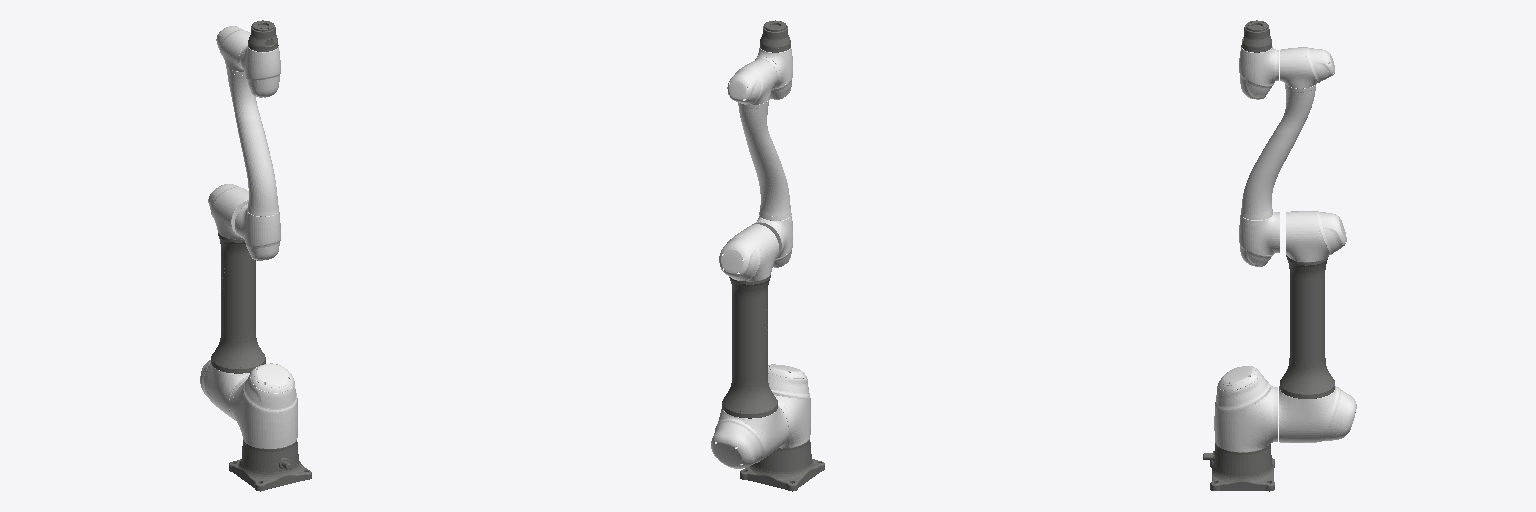
robot.urdf — m0609:
<?xml version="1.0" ?>
<robot name="m0609">

  <material name="black">
    <color rgba="0.0 0.0 0.0 1.0"/>
  </material>
  <material name="white">
    <color rgba="1.0 1.0 1.0 1.0"/>
  </material>
  <material name="orange">
    <color rgba="1.0 0.4 0.0 1.0"/>
  </material>

  <material name="dr_gray">
    <color rgba="0.490 0.490 0.486 1.0"/>
  </material>
  <material name="dr_white">
    <color rgba="0.941 0.941 0.941 1.0"/>
  </material>
  
  <link name="base"/>
  <joint name="fixed" type="fixed">
    <parent link="base"/>
    <child link="base_0"/>
  </joint>
  
  <link name="base_0">
	<inertial>
	  <mass value="3.722"/>
	  <origin xyz="-1.2e-05 -6e-05 0.050723"/>
      <inertia ixx="0.011" ixy="-7.19e-06" ixz="-1.94e-06" iyy="0.011" iyz="4.9e-06" izz="0.014"/>
    </inertial>
	<visual>
      <origin rpy="0 0 0" xyz="0 0 0"/>
      <geometry>
        <mesh filename="package://dsr_description2/meshes/a0912_white/A0912_0_0.dae" scale="0.001 0.001 0.001"/>
      </geometry>
      <material name="dr_gray"/>
    </visual>
  </link>

  <joint name="joint1" type="revolute">
    <parent link="base_0"/>
    <child link="link1"/>
    <origin rpy="0 0 0" xyz="0 0 0.195"/>
    <axis xyz="0 0 1"/>
    <limit effort="30" lower="-2.617" upper="2.617" velocity="1.571"/>
  </joint>

  <link name="link1">
	<inertial>
	  <mass value="7.446"/>
	  <origin xyz="7e-05 0.044281 0.143327"/>
      <inertia ixx="0.039" ixy="2.1e-05" ixz="-3.61e-05" iyy="0.023" iyz="-0.003" izz="0.039"/>
    </inertial>
    <visual>
      <origin rpy="0 0 0" xyz="0 0 0"/>
      <geometry>
        <mesh filename="package://dsr_description2/meshes/a0912_white/A0912_1_0.dae" scale="0.001 0.001 0.001"/>
      </geometry>
      <material name="dr_white"/>
    </visual>
    <visual>
      <origin rpy="0 0 0" xyz="0 0 0"/>
      <geometry>
        <mesh filename="package://dsr_description2/meshes/a0912_white/A0912_1_1.dae" scale="0.001 0.001 0.001"/>
      </geometry>
      <material name="dr_white"/>
    </visual>
    <visual>
      <origin rpy="0 0 0" xyz="0 0 0"/>
      <geometry>
        <mesh filename="package://dsr_description2/meshes/a0912_white/A0912_1_2.dae" scale="0.001 0.001 0.001"/>
      </geometry>
      <material name="dr_white"/>
    </visual>
  </link>
  
  <joint name="joint2" type="revolute">
    <parent link="link1"/>
    <child link="link2"/>
    <origin rpy="0 -1.571 -1.571" xyz="0 0.039 0"/>
    <axis xyz="0 0 1"/>
    <limit effort="30" lower="-2.617" upper="2.617" velocity="1.571"/>
  </joint>

  <link name="link2">
	<inertial>
	  <mass value="10.569"/>
	  <origin xyz="-1.6e-05 0.189372 0.418558"/>
      <inertia ixx="0.820" ixy="1.19e-05" ixz="-0.000263" iyy="0.82" iyz="-0.008" izz="0.031"/>
    </inertial>
    <visual>
      <origin rpy="0 0 0" xyz="0 0 0"/>
      <geometry>
        <mesh filename="package://dsr_description2/meshes/a0912_white/A0912_2_0.dae" scale="0.001 0.001 0.001"/>
      </geometry>
      <material name="dr_white"/>
    </visual>
    <visual>
      <origin rpy="0 0 0" xyz="0 0 0"/>
      <geometry>     
		<mesh filename="package://dsr_description2/meshes/a0912_white/A0912_2_1.dae" scale="0.001 0.001 0.001"/>
      </geometry>
      <material name="dr_gray">
        <color rgba="0.490 0.490 0.486 1.0"/>
      </material>
	  </visual>
    <visual>
      <origin rpy="0 0 0" xyz="0 0 0"/>
      <geometry>     
		<mesh filename="package://dsr_description2/meshes/a0912_white/A0912_2_2.dae" scale="0.001 0.001 0.001"/>
      </geometry>
      <material name="dr_white"/>
    </visual>	
  </link>

  <joint name="joint3" type="revolute">
    <parent link="link2"/>
    <child link="link3"/>
    <origin rpy="0 0 1.571" xyz="0.56 0 0"/>
    <axis xyz="0 0 1"/>
    <limit effort="30" lower="-2.617" upper="2.617" velocity="1.571"/>
  </joint>
  
  <link name="link3">
	<inertial>
	  <mass value="3.614"/>
	  <origin xyz="6e-06 0.07917 0.781807"/>
      <inertia ixx="0.012" ixy="-4.38e-06" ixz="-1.2e-06" iyy="0.008" iyz="0.002" izz="0.011"/>
    </inertial>
    <visual>
      <origin rpy="0 0 0" xyz="0 0 0"/>
      <geometry>     
		<mesh filename="package://dsr_description2/meshes/a0912_white/A0912_3_0.dae" scale="0.001 0.001 0.001"/>
      </geometry>
      <geometry>     
		<mesh filename="package://dsr_description2/meshes/a0912_white/A0912_3_1.dae" scale="0.001 0.001 0.001"/>
      </geometry>
      <material name="dr_white"/>
    </visual>
  </link>

  <joint name="joint4" type="revolute">
    <parent link="link3"/>
    <child link="link4"/>
    <origin rpy="1.571 0 0" xyz="0 -0.516 0"/>
    <axis xyz="0 0 1"/>
    <limit effort="30" lower="-2.617" upper="2.617" velocity="1.571"/>
  </joint>
  
  <link name="link4">
	<inertial>
	  <mass value="3.785"/>
	  <origin xyz="-2.1e-05 0.12337 1.148"/>
      <inertia ixx="0.177" ixy="-2.34e-06" ixz="-4.92e-06" iyy="0.161" iyz="-0.05" izz="0.022"/>
    </inertial>
    <visual>
      <origin rpy="0 0 0" xyz="0 0 0"/>
      <geometry>     
		<mesh filename="package://dsr_description2/meshes/a0912_white/A0912_4_0.dae" scale="0.001 0.001 0.001"/>
      </geometry>
      <material name="dr_white"/>
    </visual>
    <visual>
      <origin rpy="0 0 0" xyz="0 0 0"/>
      <geometry>     
		<mesh filename="package://dsr_description2/meshes/a0912_white/A0912_4_1.dae" scale="0.001 0.001 0.001"/>
      </geometry>
      <material name="dr_white">
        <color rgba="0.941 0.941 0.941 1.0"/>
      </material>
    </visual>
  </link>

  <joint name="joint5" type="revolute">
    <parent link="link4"/>
    <child link="link5"/>
    <origin rpy="-1.571 0 0" xyz="0 0 0"/>
    <axis xyz="0 0 1"/>
    <limit effort="30" lower="-2.617" upper="2.617" velocity="1.571"/>
  </joint>
  
  <link name="link5">
	<inertial>
	  <mass value="2.598"/>
	  <origin xyz="-1.7e-05 0.06662 1.33103"/>
      <inertia ixx="0.007" ixy="-4.93e-06" ixz="-5.57e-06" iyy="0.004" iyz="-6.64e-05" izz="0.007"/>
    </inertial>
    <visual>
      <origin rpy="0 0 0" xyz="0 0 0"/>
      <geometry>     
		<mesh filename="package://dsr_description2/meshes/a0912_white/A0912_5_0.dae" scale="0.001 0.001 0.001"/>
      </geometry>
      <material name="dr_white"/>
    </visual>
    <visual>
      <origin rpy="0 0 0" xyz="0 0 0"/>
      <geometry>     
		<mesh filename="package://dsr_description2/meshes/a0912_white/A0912_5_1.dae" scale="0.001 0.001 0.001"/>
      </geometry>
      <material name="dr_white"/>
    </visual>
  </link>

  <joint name="joint6" type="revolute">
    <parent link="link5"/>
    <child link="link6"/>
    <origin rpy="1.571 0 0" xyz="0 -0.124 0"/>
    <axis xyz="0 0 1"/>
    <limit effort="30" lower="-2.617" upper="2.617" velocity="1.571"/>
  </joint>
  
  <link name="link6">
	<inertial>
	  <mass value="1.128"/>
	  <origin xyz="-0.000174 0.034708 1.40022"/>
      <inertia ixx="0.001" ixy="-2.79e-06" ixz="5.78e-06" iyy="0.001" iyz="-6.67e-06" izz="0.001"/>
    </inertial>
    <visual>
      <origin rpy="0 0 0" xyz="0 0 0"/>
      <geometry>     
		<mesh filename="package://dsr_description2/meshes/a0912_white/A0912_6_0.dae" scale="0.001 0.001 0.001"/>
      </geometry>
      <material name="dr_gray"/>
    </visual>
  </link>
  
</robot>

--- Render facts (derived) ---
Views: 3 orthographic renders of the robot side by side, from view 1: azimuth 30°, elevation 25°; view 2: azimuth 150°, elevation 25°; view 3: azimuth 270°, elevation 25°.
Robot: m0609 — 8 links, 7 joints (6 revolute, 1 fixed); root link base; default pose: all joints at 0.
Links seen in each view (by area): view 1: link2, link4, link1, base_0, link3, link5, link6; view 2: link2, link4, link1, base_0, link5, link3, link6; view 3: link2, link4, link1, base_0, link3, link5, link6.
Boxes of the visible links, x1=… form: link2: x1=200, y1=184, x2=265, y2=420; link4: x1=216, y1=26, x2=278, y2=216; link1: x1=229, y1=363, x2=297, y2=448; base_0: x1=229, y1=440, x2=311, y2=491; link3: x1=235, y1=204, x2=280, y2=260; link5: x1=239, y1=45, x2=280, y2=97; link6: x1=248, y1=20, x2=278, y2=51; link2: x1=711, y1=224, x2=788, y2=468; link4: x1=727, y1=59, x2=791, y2=220; link1: x1=768, y1=364, x2=810, y2=447; base_0: x1=740, y1=439, x2=824, y2=491; link5: x1=755, y1=48, x2=792, y2=99; link3: x1=752, y1=215, x2=792, y2=267; link6: x1=760, y1=20, x2=790, y2=52; link2: x1=1279, y1=211, x2=1356, y2=442; link4: x1=1241, y1=47, x2=1334, y2=219; link1: x1=1214, y1=366, x2=1277, y2=451; base_0: x1=1203, y1=443, x2=1274, y2=491; link3: x1=1239, y1=212, x2=1279, y2=266; link5: x1=1239, y1=46, x2=1278, y2=99; link6: x1=1241, y1=20, x2=1271, y2=52.
Size in the robot's own frame: 0.182 by 0.4285 by 1.4 metres.
Meshes: 13 distinct files referenced, 13 mesh visuals loaded (13 Collada DAE).
